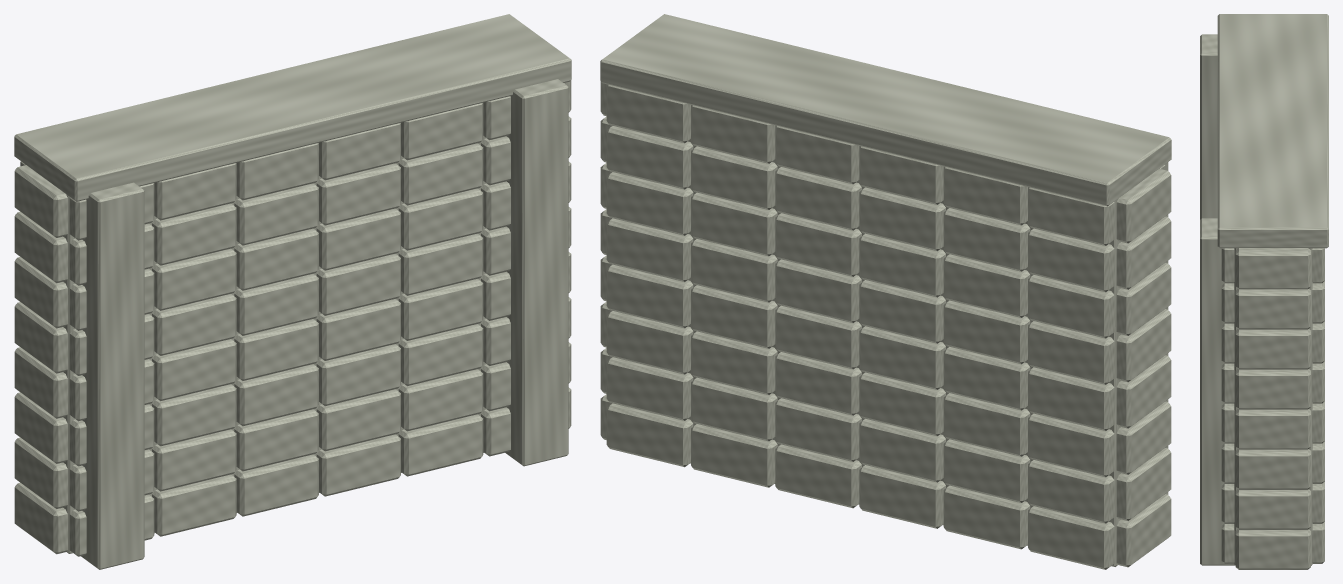
The model's file is terrace_retaining_wall.glb.
The picture shows the model from 3 angles, left to right: view 1: azimuth 30°, elevation 25°; view 2: azimuth 150°, elevation 25°; view 3: azimuth 270°, elevation 25°; orthographic projection. The views are drawn at different scales.
Parts seen in each view (by area): view 1: terrace_retaining_wall_Structure; view 2: terrace_retaining_wall_Structure; view 3: terrace_retaining_wall_Structure.
Boxes of the visible parts, x1=… form: terrace_retaining_wall_Structure: x1=14, y1=14, x2=571, y2=569; terrace_retaining_wall_Structure: x1=600, y1=14, x2=1171, y2=569; terrace_retaining_wall_Structure: x1=1200, y1=14, x2=1328, y2=569.
Size of the model in its own units: 4.2 by 3 by 1.02.
Materials: 1 (1 with a texture image).
